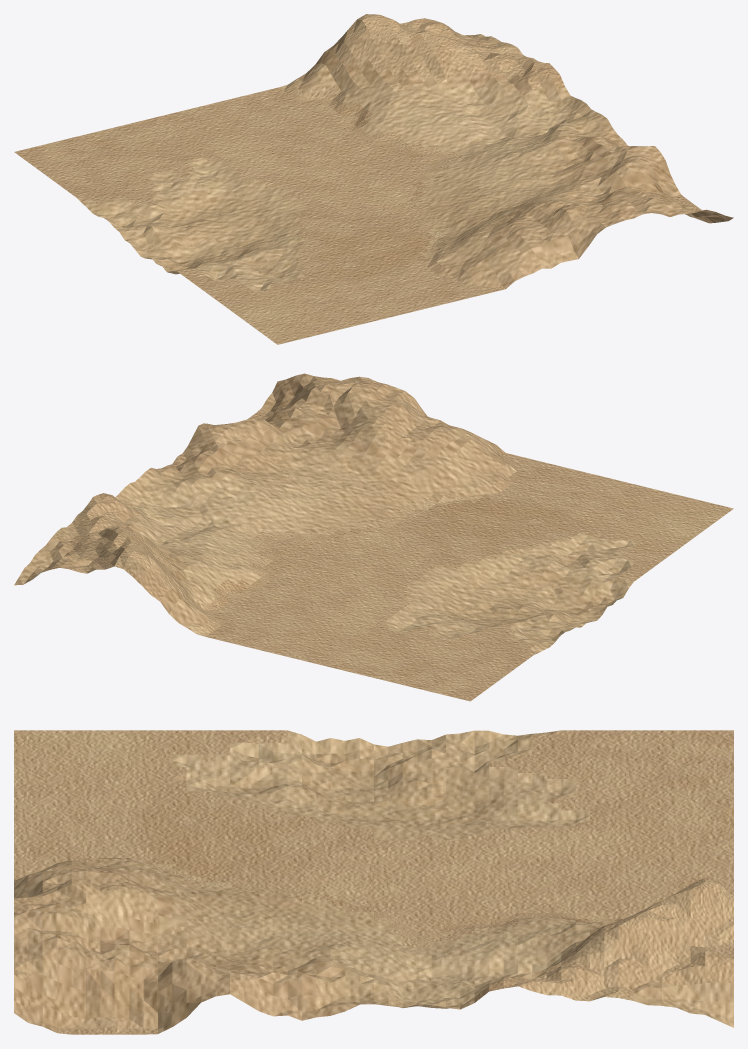
File: escenario.obj
3 renders of one model, top to bottom at view 1: azimuth 30°, elevation 25°; view 2: azimuth 150°, elevation 25°; view 3: azimuth 270°, elevation 25°, orthographic. The views are drawn at different scales.
Visible parts, largest first — view 1: ConvexHull-Terreno_SCG_terrain; view 2: ConvexHull-Terreno_SCG_terrain; view 3: ConvexHull-Terreno_SCG_terrain.
Boxes of the visible parts, x1,y1,x2,y2 form: ConvexHull-Terreno_SCG_terrain: (14,14,733,344); ConvexHull-Terreno_SCG_terrain: (14,373,733,701); ConvexHull-Terreno_SCG_terrain: (14,730,733,1034).
Size of the model in its own units: 5 by 0.7976 by 5.
